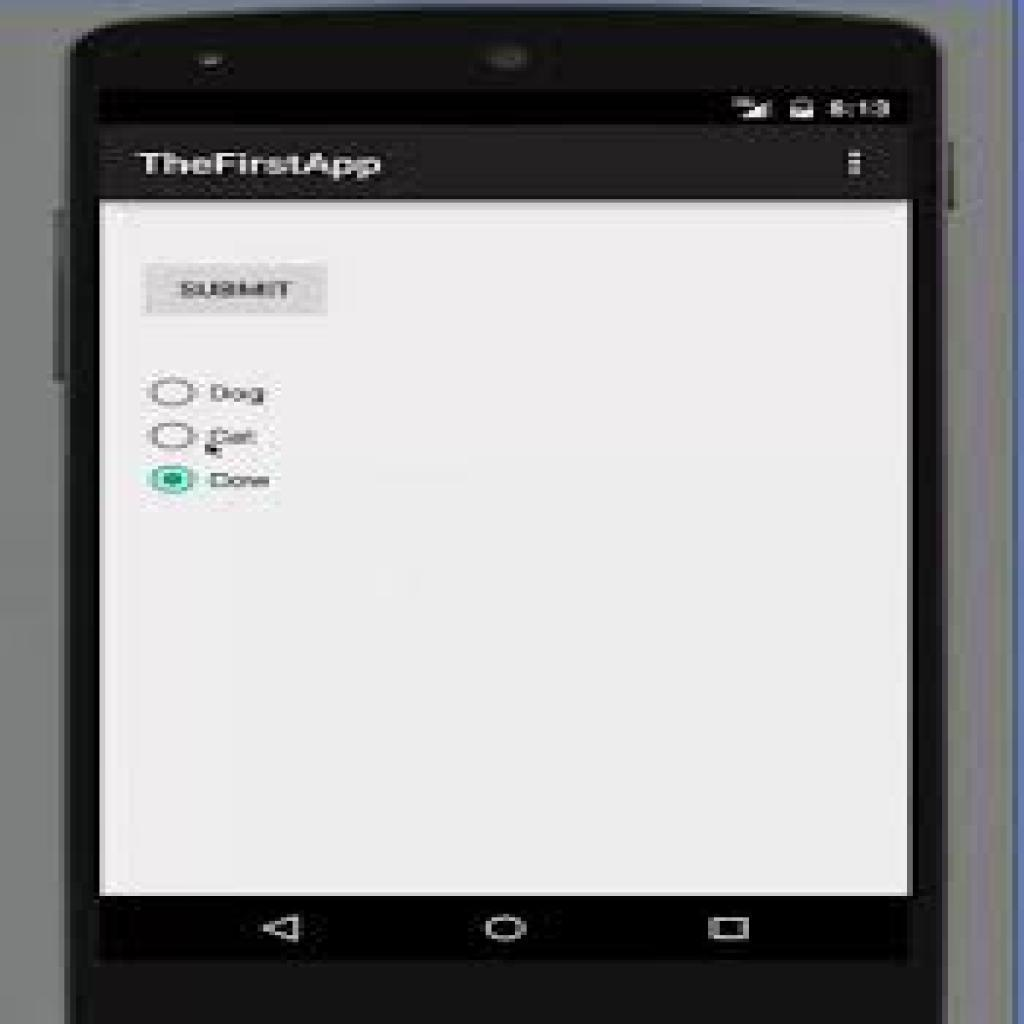button: (143, 264, 327, 315)
label: (206, 380, 268, 408), (209, 423, 261, 452), (209, 470, 272, 492)
radio: (146, 372, 200, 410), (148, 418, 198, 454), (146, 463, 199, 495)
